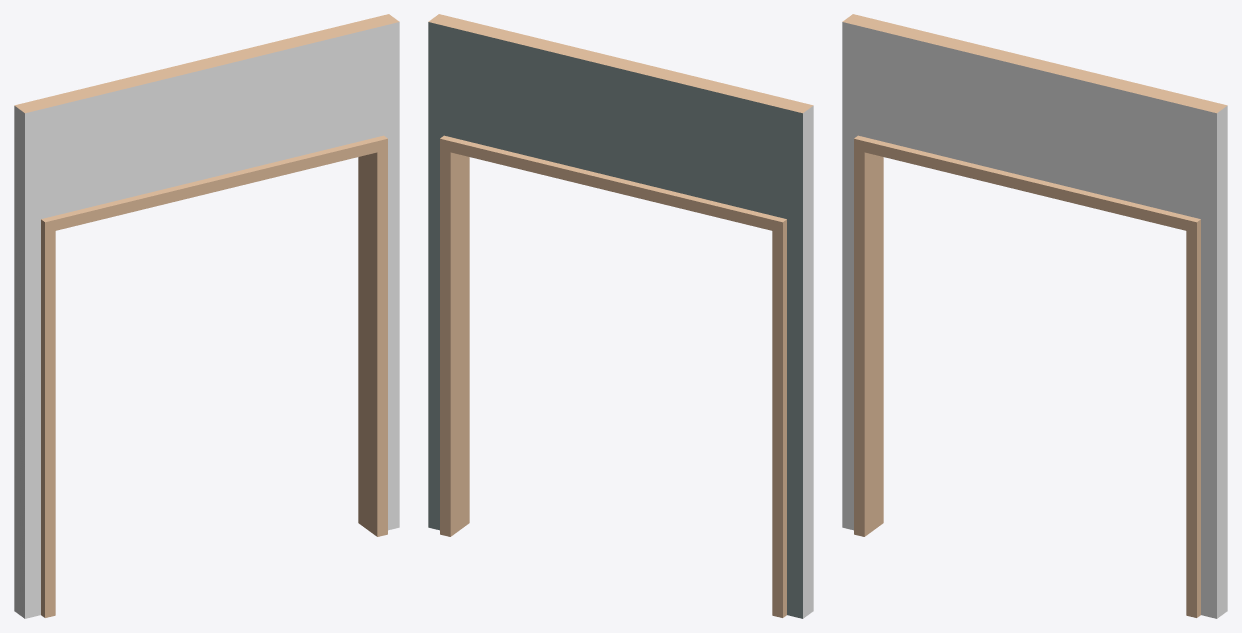
The model's file is wallDoorwayWide.glb.
3 renders of one model, left to right at view 1: azimuth 30°, elevation 25°; view 2: azimuth 150°, elevation 25°; view 3: azimuth 330°, elevation 25°, orthographic.
Visible parts, largest first — view 1: wallDoorwayWide(Clone); view 2: wallDoorwayWide(Clone); view 3: wallDoorwayWide(Clone).
Boxes of the visible parts, x1,y1,x2,y2 form: wallDoorwayWide(Clone): [14, 14, 399, 618]; wallDoorwayWide(Clone): [428, 14, 813, 618]; wallDoorwayWide(Clone): [842, 14, 1227, 618].
Bounding box in the file's own units: 2.03 × 2.62 × 0.1809.
3 materials, 3 textured.
